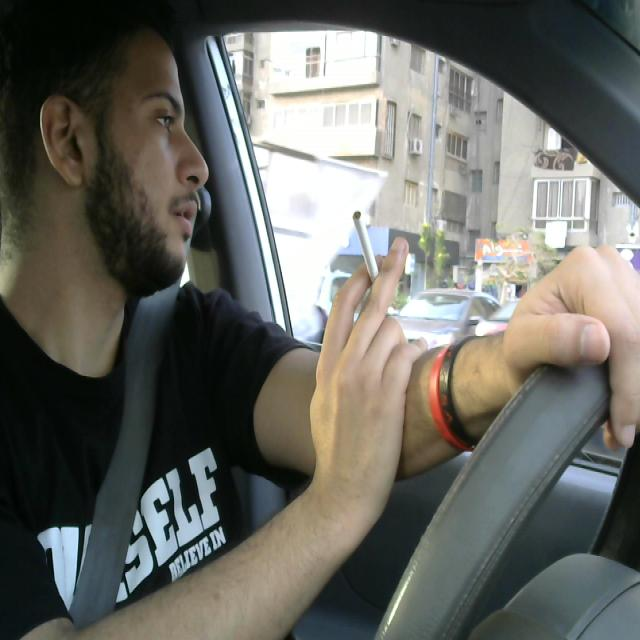smoking: (349, 203, 392, 299)
